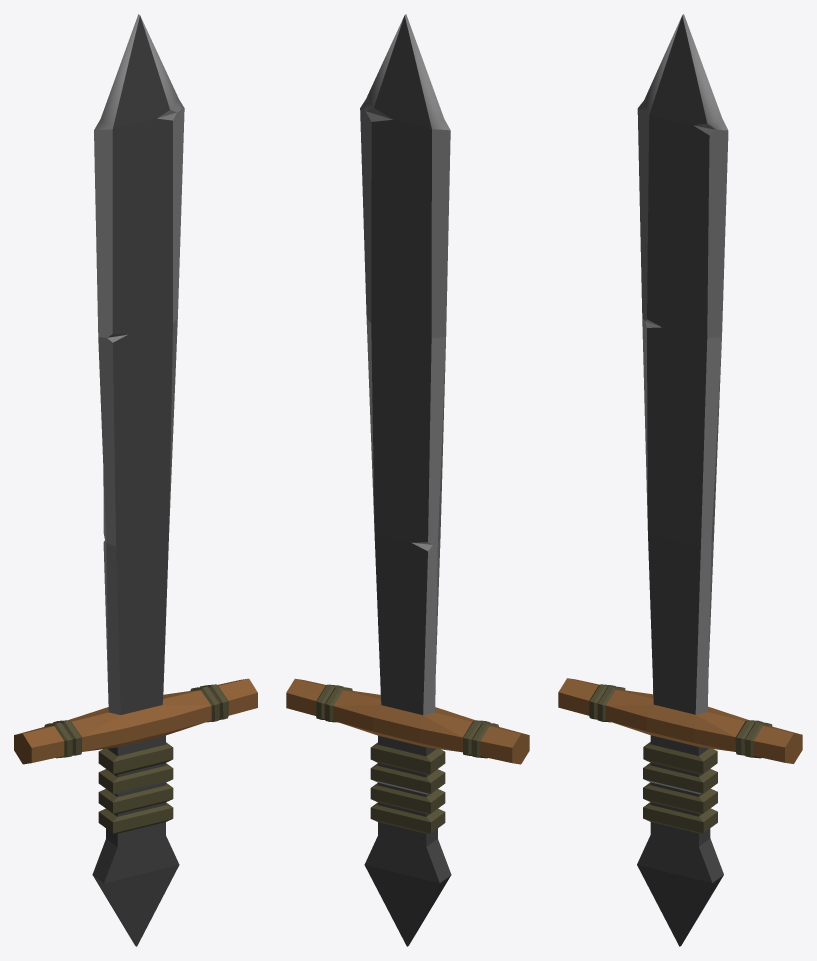
Rendered from Primitive_Sword.fbx.
The picture shows the model from 3 angles, left to right: view 1: azimuth 30°, elevation 25°; view 2: azimuth 150°, elevation 25°; view 3: azimuth 330°, elevation 25°; orthographic projection.
Visible parts, largest first — view 1: Primitive_Sword; view 2: Primitive_Sword; view 3: Primitive_Sword.
Boxes of the visible parts, x1=… form: Primitive_Sword: x1=14, y1=14, x2=257, y2=946; Primitive_Sword: x1=286, y1=14, x2=529, y2=946; Primitive_Sword: x1=558, y1=14, x2=802, y2=946.
Bounding box in the file's own units: 280 × 1099 × 49.99.
